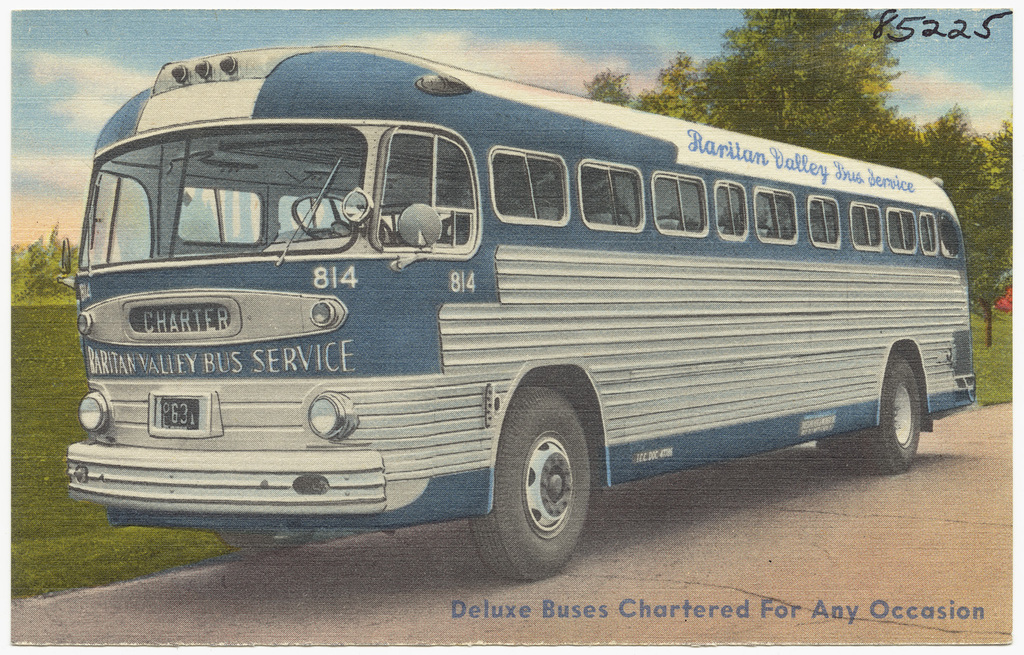Bus: (66, 45, 975, 580)
